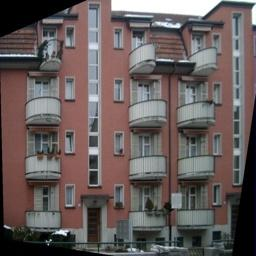building: (70, 0, 255, 243)
